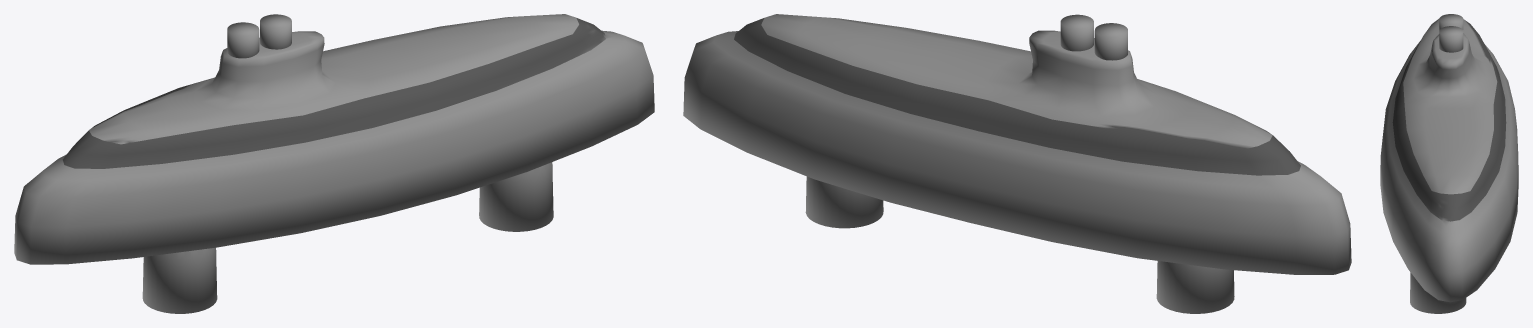
File: Battleship_Submarine.fbx
3 views of the same model, side by side, from view 1: azimuth 30°, elevation 25°; view 2: azimuth 150°, elevation 25°; view 3: azimuth 270°, elevation 25° (orthographic). The views are drawn at different scales.
Parts seen in each view (by area): view 1: Submarine; view 2: Submarine; view 3: Submarine.
Part boxes in pixels (left/top/right/bottom): Submarine: left=14, top=14, right=654, bottom=313; Submarine: left=683, top=14, right=1351, bottom=313; Submarine: left=1380, top=14, right=1518, bottom=313.
Size of the model in its own units: 0.0361 by 0.0133 by 0.00902.
